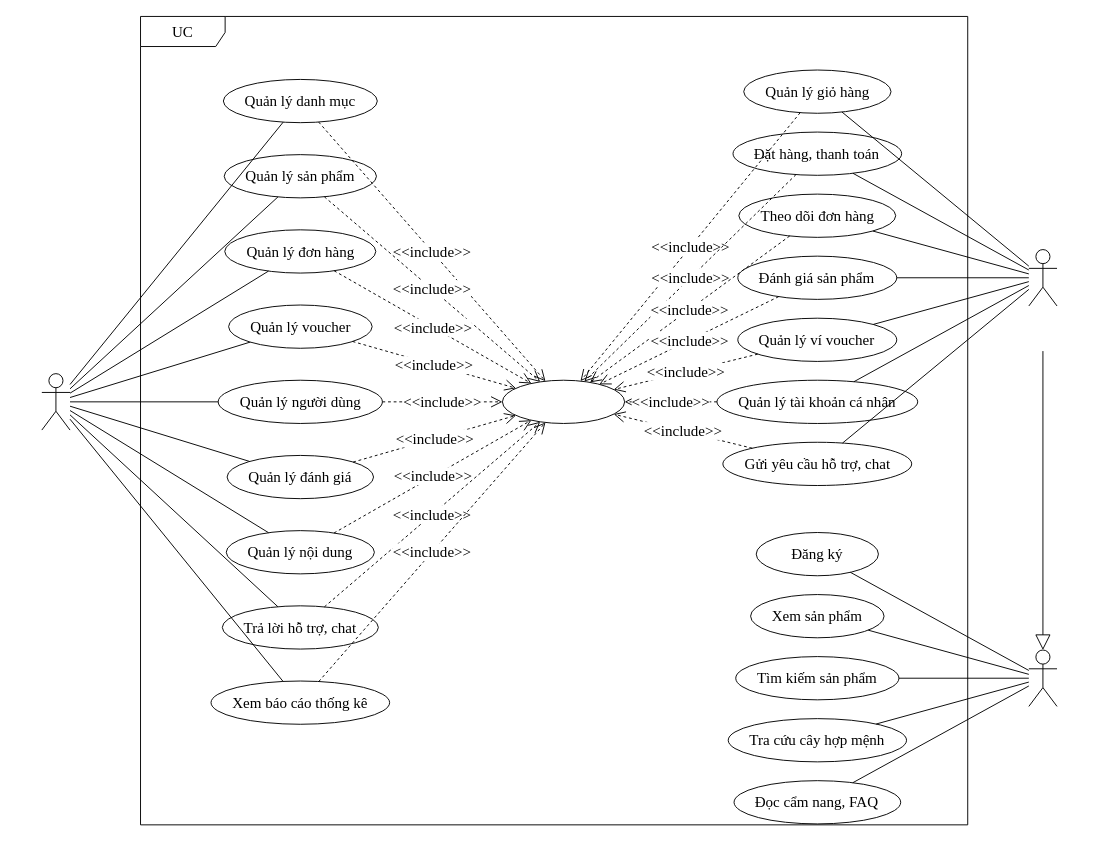
The diagram is 1105 pixels wide and 841 high, and some of its shapes have lost their labels. The box of each missing label's shape, as (x1, y1, x2, y2) in pixels:
HỆ THỐNG WEBSITE BÁN CÂY CẢNH VÀ HOA: (234, 18, 873, 46)
Khách hàng: (1028, 249, 1057, 306)
Khách vãng lai: (1028, 649, 1057, 706)
Quản trị viên: (41, 373, 70, 430)
Đăng nhập: (501, 379, 625, 423)
